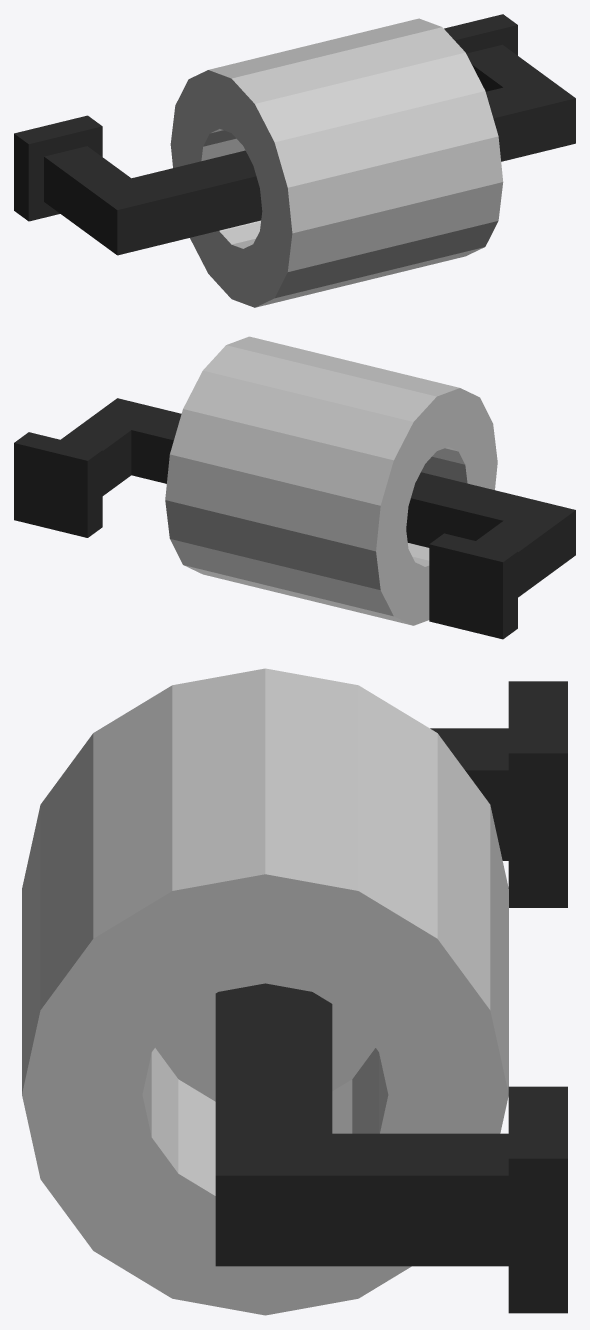
Rendered from Toilet Paper.fbx.
The picture shows the model from 3 angles, top to bottom: view 1: azimuth 30°, elevation 25°; view 2: azimuth 150°, elevation 25°; view 3: azimuth 270°, elevation 25°; orthographic projection. The views are drawn at different scales.
Visible parts, largest first — view 1: Toilet Paper; view 2: Toilet Paper; view 3: Toilet Paper.
Part boxes in pixels (box(x1,y1,x2,y2)): Toilet Paper: box(14, 14, 575, 307); Toilet Paper: box(14, 336, 575, 639); Toilet Paper: box(22, 668, 567, 1315).
Size of the model in its own units: 0.2821 by 0.1216 by 0.1364.
